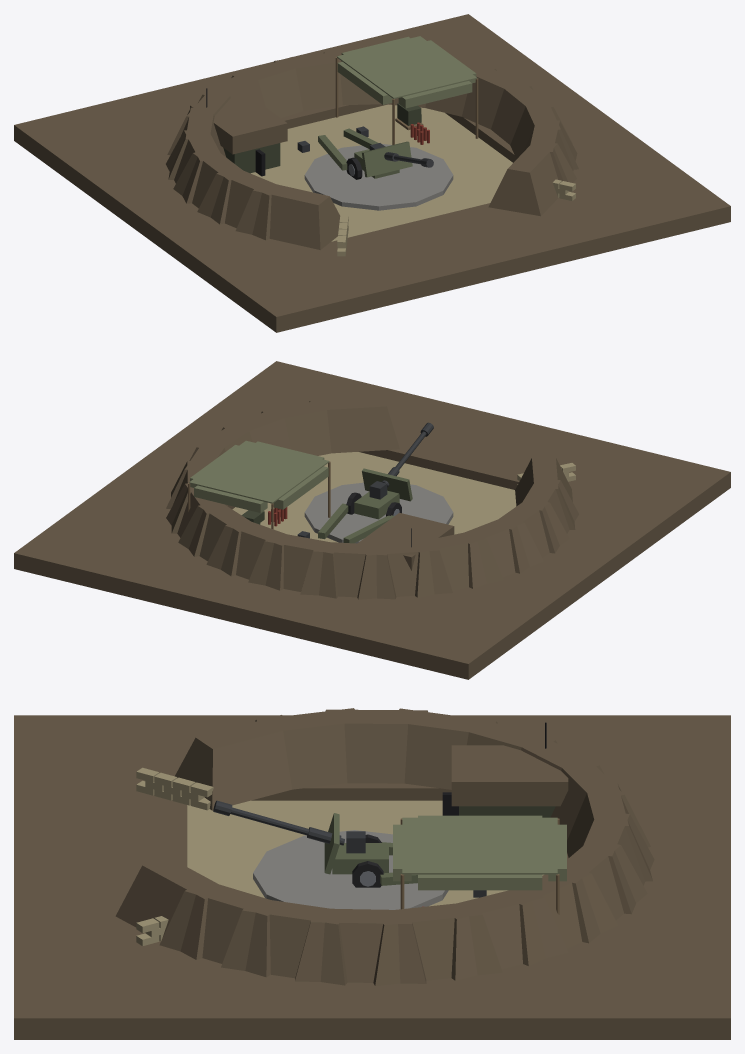
Rendered from Fort_ArtilleryPost.obj.
3 views of the same model, one above another, from view 1: azimuth 30°, elevation 25°; view 2: azimuth 150°, elevation 25°; view 3: azimuth 270°, elevation 25° (orthographic). The views are drawn at different scales.
Bounding box in the file's own units: 24 × 3.6 × 24.
